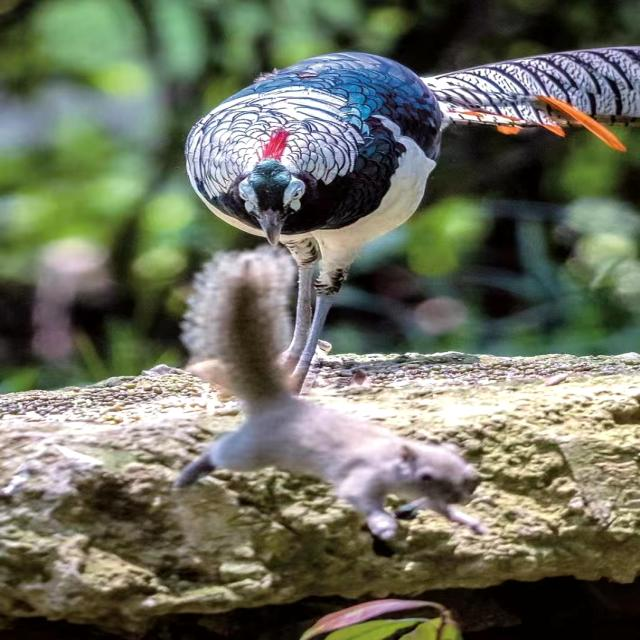Chrysolophus amherstiae: (422, 46, 639, 150)
